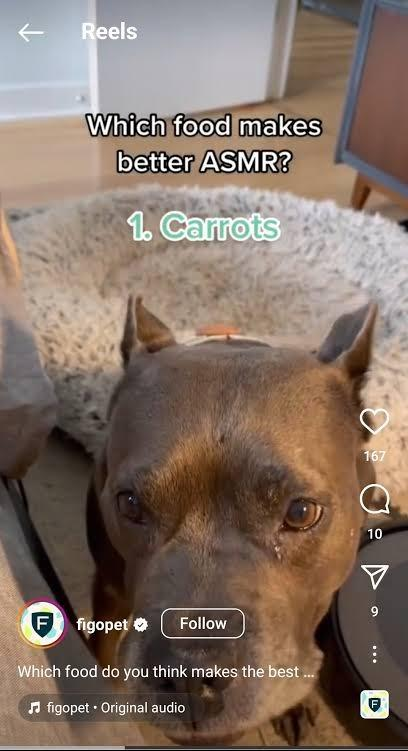adult_dog: (89, 297, 382, 733)
